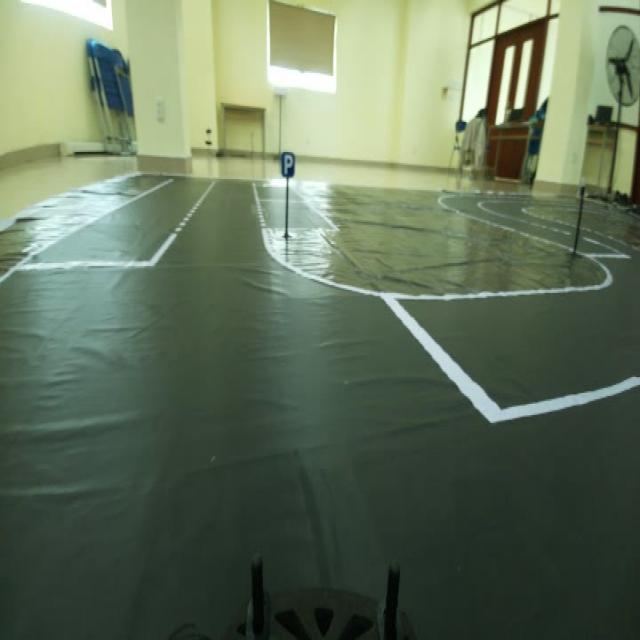parking: (277, 144, 295, 182)
